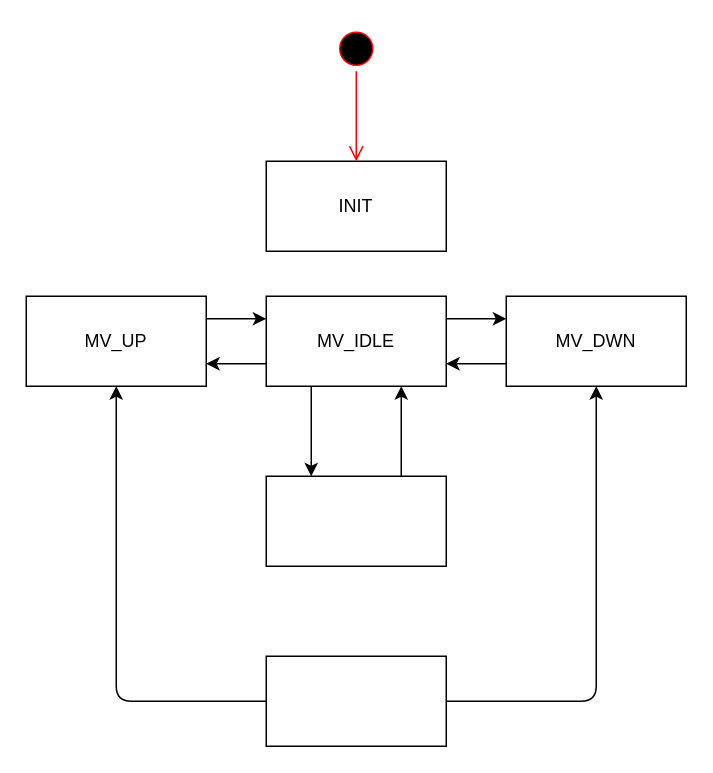
Image size: 713x773. Some labels were removed from this diagram. The box of each missing label's shape, as (x1, y1, x2, y2) in pixels:
MV_STOP: (265, 475, 446, 566)
STOP_IDLE: (265, 655, 446, 746)
